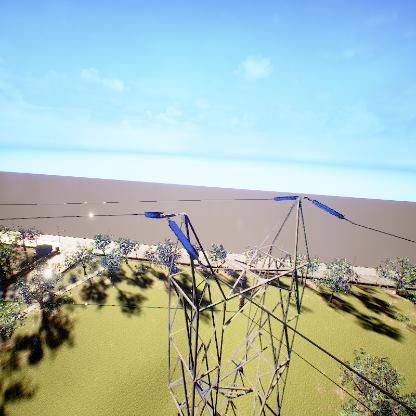insulator: (168, 219, 198, 260), (313, 199, 345, 220), (238, 276, 248, 310), (142, 211, 167, 219), (273, 196, 300, 199)
